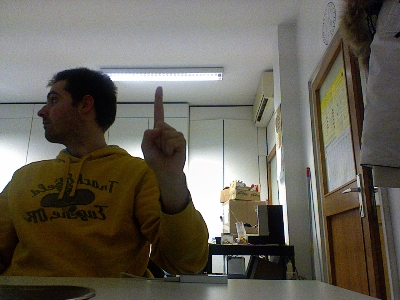食指: (138, 84, 188, 174)
